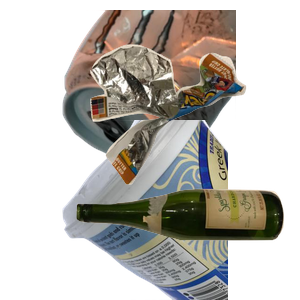glass: (74, 186, 300, 300)
metal: (60, 10, 300, 175)
plastic: (60, 120, 300, 300)
trash: (88, 42, 300, 219)
